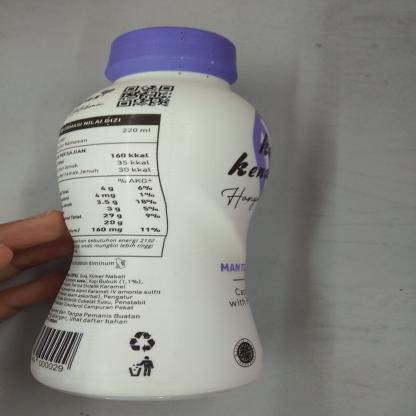bottle: (27, 22, 277, 406)
